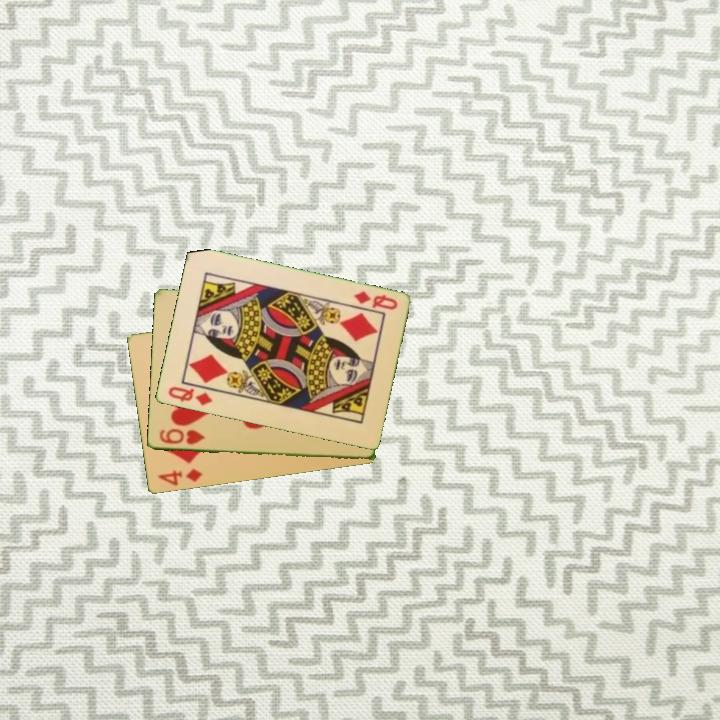4d: (154, 465, 205, 489)
6h: (156, 425, 207, 448)
Qd: (164, 383, 215, 409), (350, 287, 400, 313)
